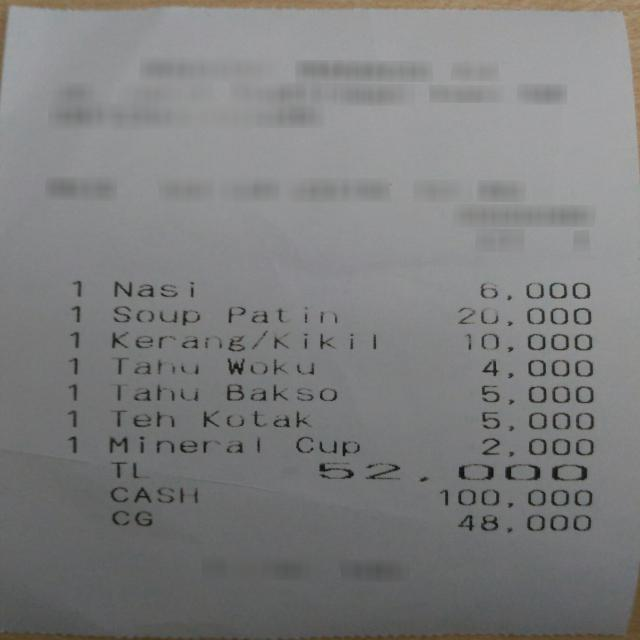text: (110, 328, 376, 352), (319, 463, 586, 481), (109, 435, 258, 454), (440, 489, 590, 507), (458, 308, 590, 326), (481, 411, 593, 432), (466, 333, 591, 351), (480, 385, 592, 404), (481, 438, 593, 457), (457, 515, 590, 531), (480, 359, 592, 377), (479, 282, 589, 300), (225, 384, 336, 400), (228, 306, 336, 322), (202, 411, 310, 427), (112, 306, 199, 325), (109, 486, 197, 503), (226, 358, 313, 375), (115, 358, 198, 374), (114, 281, 196, 297), (295, 436, 358, 456), (116, 385, 197, 400), (113, 410, 173, 426), (109, 461, 148, 480), (111, 510, 153, 526), (71, 278, 84, 297), (68, 357, 80, 375), (67, 410, 78, 428), (71, 306, 83, 322), (68, 436, 78, 454), (68, 384, 78, 401), (69, 331, 78, 347)
